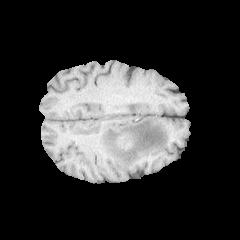glioma: (94, 116, 173, 170)
